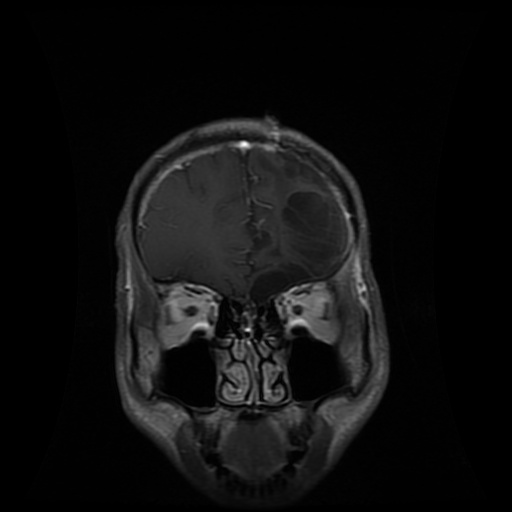glioma: (249, 190, 348, 302)
